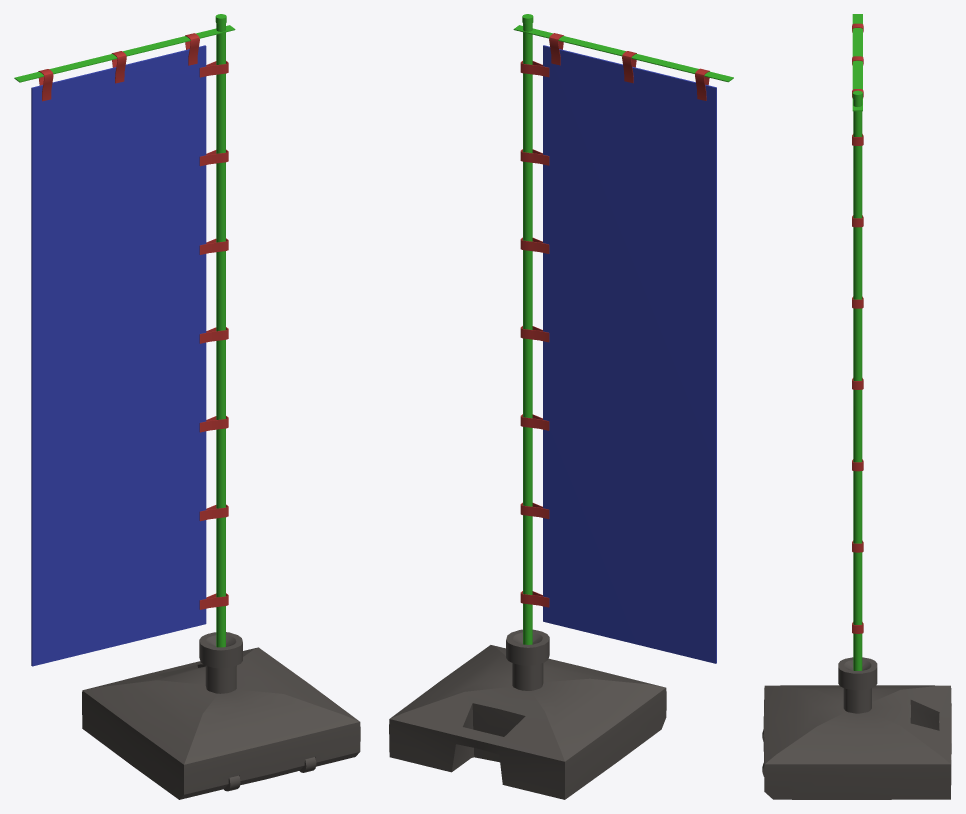
Rendered from Prop_StreetFlag_FabianZ_M.fbx.
3 views of the same model, side by side, from view 1: azimuth 30°, elevation 25°; view 2: azimuth 150°, elevation 25°; view 3: azimuth 270°, elevation 25° (orthographic). The views are drawn at different scales.
Visible parts, largest first — view 1: StreetFlag; view 2: StreetFlag; view 3: StreetFlag.
Part boxes in pixels (x1=…): StreetFlag: x1=14, y1=14, x2=360, y2=799; StreetFlag: x1=389, y1=14, x2=733, y2=799; StreetFlag: x1=762, y1=14, x2=951, y2=799.
Size of what is drawn, in the model's own units: 116 by 277 by 71.02.
